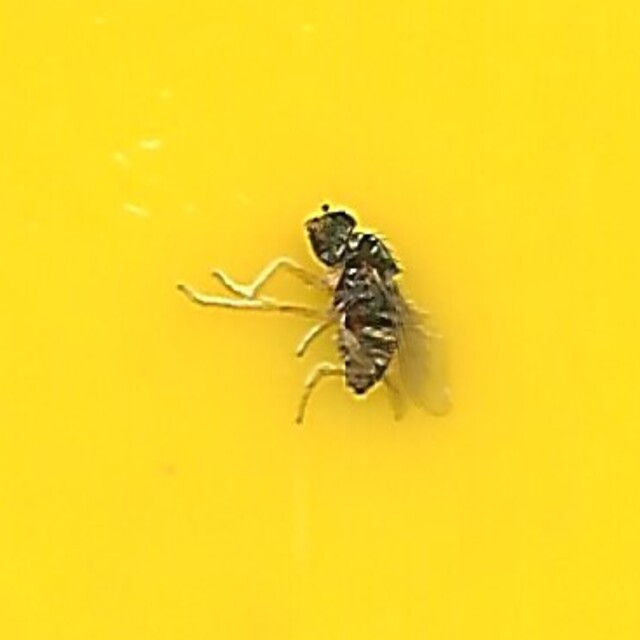Brachycera: (174, 202, 466, 438)
